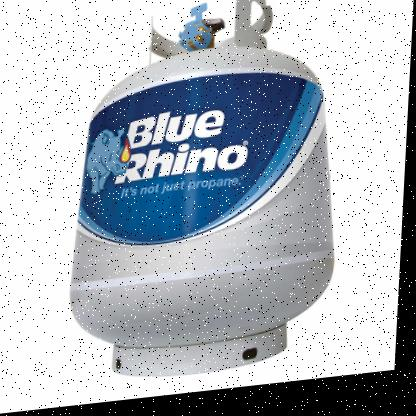gas-tank: (62, 0, 377, 405)
